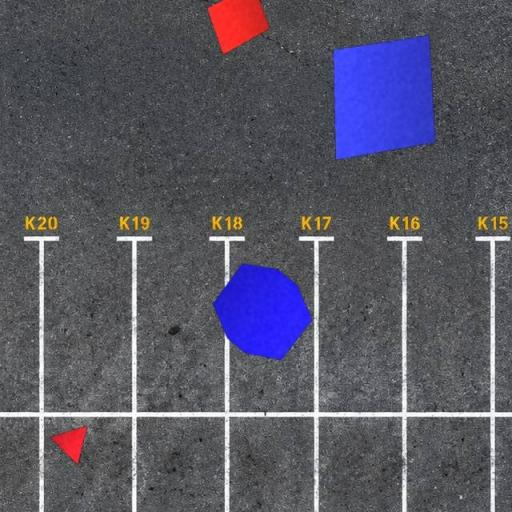BLUE_SQUARE: (333, 34, 436, 161)
RED_SQUARE: (206, 0, 272, 56)
